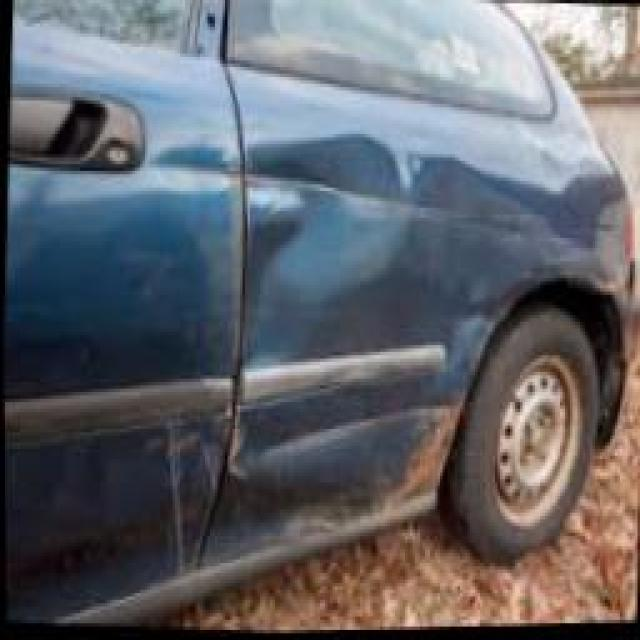rapairable: (236, 71, 423, 269), (148, 368, 262, 572)
